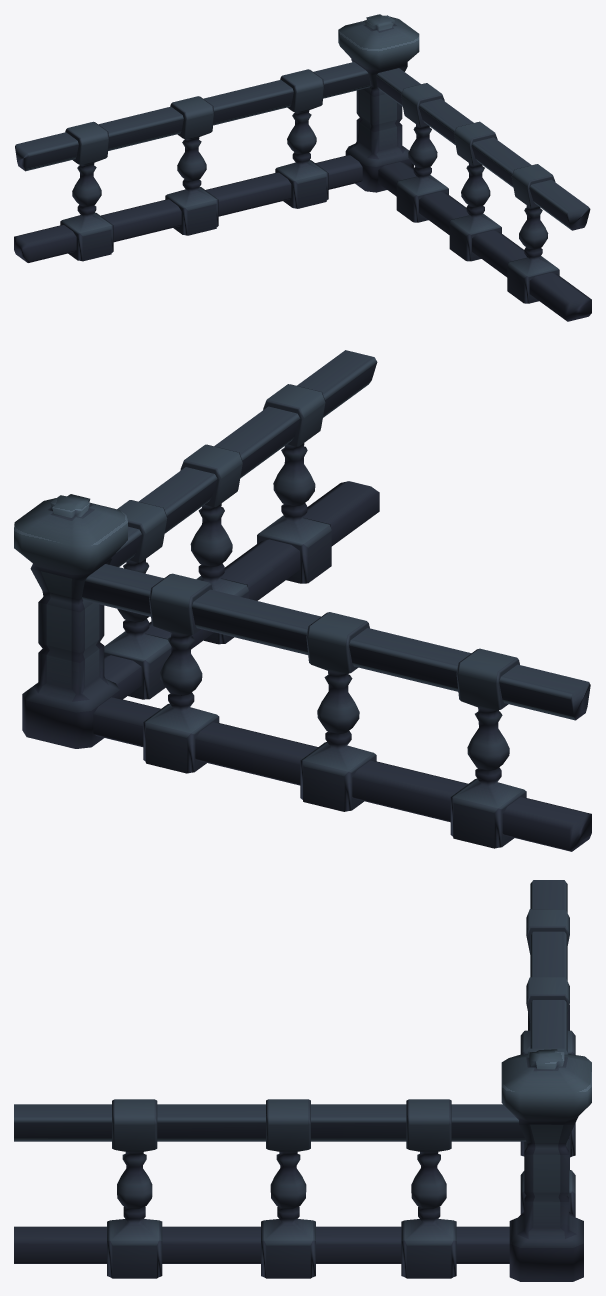
Rendered from Modular_Dungeon_Railing_Horizontal_Corner.fbx.
The picture shows the model from 3 angles, top to bottom: view 1: azimuth 30°, elevation 25°; view 2: azimuth 150°, elevation 25°; view 3: azimuth 270°, elevation 25°; orthographic projection. The views are drawn at different scales.
Visible parts, largest first — view 1: Railing_Horizontal_Corner; view 2: Railing_Horizontal_Corner; view 3: Railing_Horizontal_Corner.
Boxes of the visible parts, box(x1,y1,x2,y2) form: Railing_Horizontal_Corner: box(14, 14, 591, 321); Railing_Horizontal_Corner: box(14, 350, 591, 851); Railing_Horizontal_Corner: box(14, 880, 591, 1281).
Size of the model in its own units: 6.39 by 2.51 by 6.22.
Materials: 1 (1 with a texture image).
